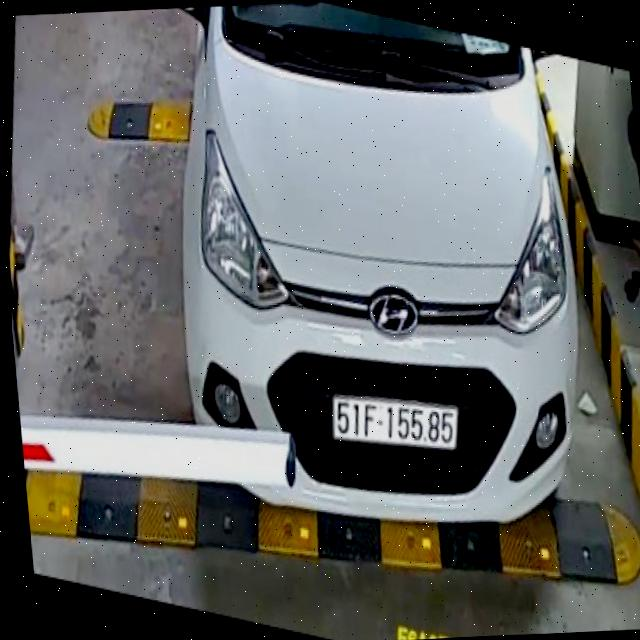car: (157, 1, 602, 543)
plate: (324, 381, 468, 465)
